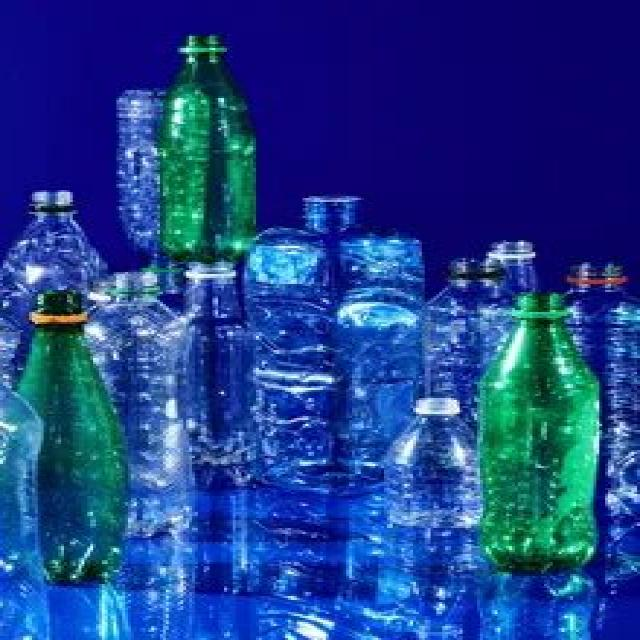green: (476, 295, 596, 572), (22, 292, 131, 585), (158, 32, 257, 265)
